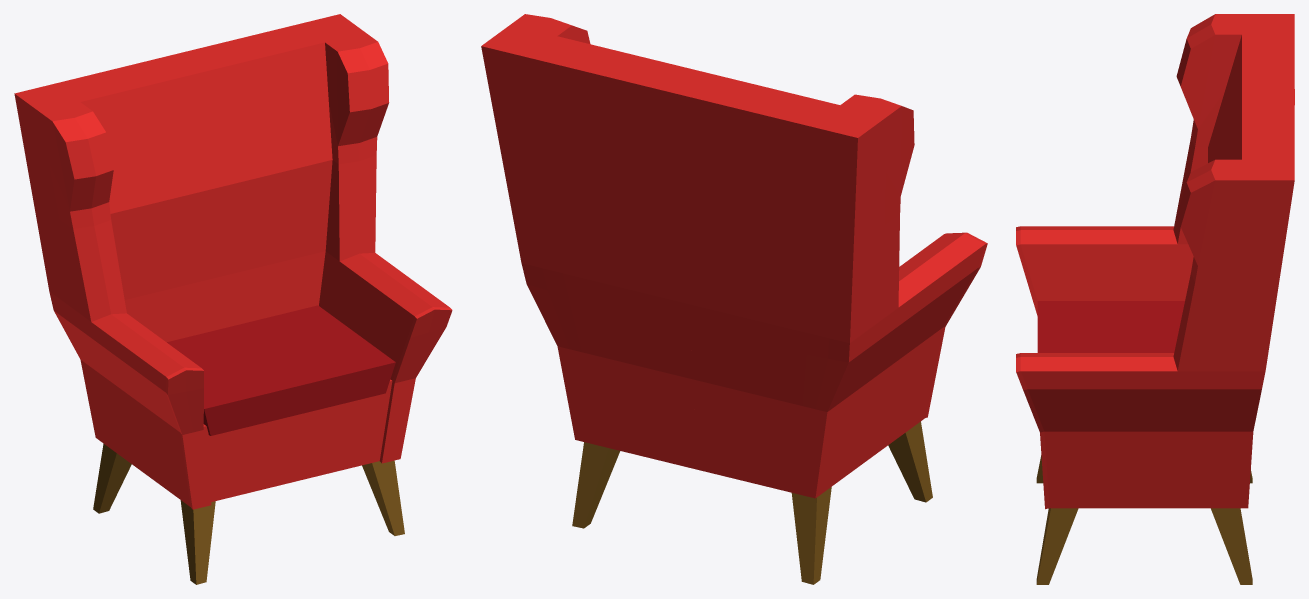
File: armchair_low_poly.glb
3 views of the same model, side by side, from view 1: azimuth 30°, elevation 25°; view 2: azimuth 150°, elevation 25°; view 3: azimuth 270°, elevation 25° (orthographic). The views are drawn at different scales.
Visible parts, largest first — view 1: Cube.002_1, Cube.003_2, Cube.004_3; view 2: Cube.002_1, Cube.004_3; view 3: Cube.002_1, Cube.003_2, Cube.004_3.
Part boxes in pixels (x1,y1,x2,y2): Cube.002_1: [14, 14, 452, 509]; Cube.003_2: [167, 305, 395, 435]; Cube.004_3: [93, 443, 404, 584]; Cube.002_1: [481, 14, 987, 498]; Cube.004_3: [572, 421, 932, 584]; Cube.002_1: [1016, 14, 1294, 509]; Cube.003_2: [1037, 301, 1184, 352]; Cube.004_3: [1036, 455, 1252, 584].
Bounding box in the file's own units: 1.41 × 1.72 × 1.
